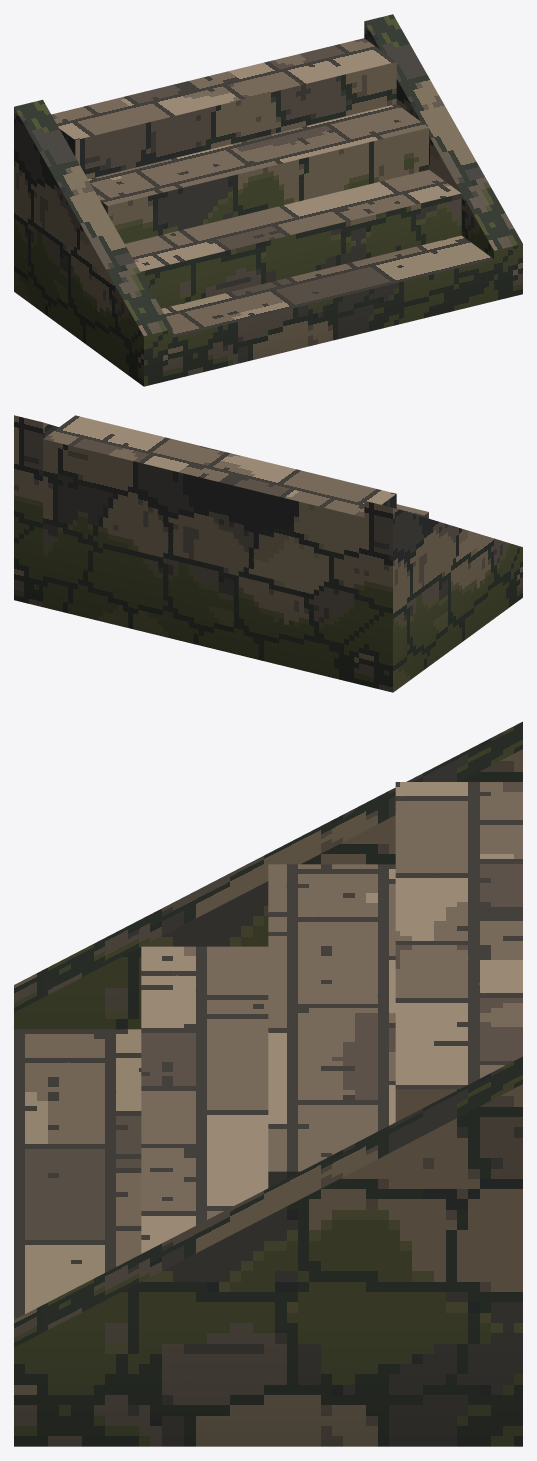
The model's file is MV_Stairs_Stone.glb.
3 views of the same model, one above another, from view 1: azimuth 30°, elevation 25°; view 2: azimuth 150°, elevation 25°; view 3: azimuth 270°, elevation 25° (orthographic). The views are drawn at different scales.
Parts seen in each view (by area): view 1: MV_Stairs_Stone_2m_A.MV_Stairs_Stone; view 2: MV_Stairs_Stone_2m_A.MV_Stairs_Stone; view 3: MV_Stairs_Stone_2m_A.MV_Stairs_Stone.
Part boxes in pixels (x1,y1,x2,y2): MV_Stairs_Stone_2m_A.MV_Stairs_Stone: (14,14,522,386); MV_Stairs_Stone_2m_A.MV_Stairs_Stone: (14,415,522,692); MV_Stairs_Stone_2m_A.MV_Stairs_Stone: (14,721,522,1446).
Size of the model in its own units: 2.36 by 1.1 by 1.4.
Materials: 2 (2 with a texture image).
